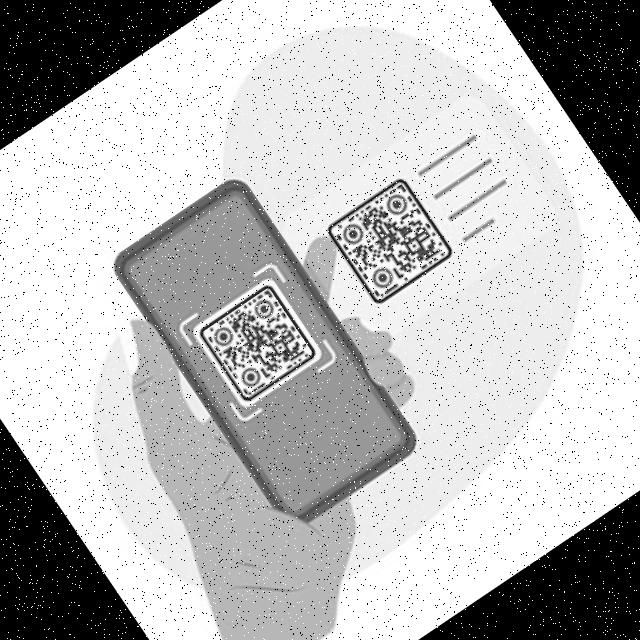QR-codes: (322, 174, 456, 308), (194, 282, 318, 406)
